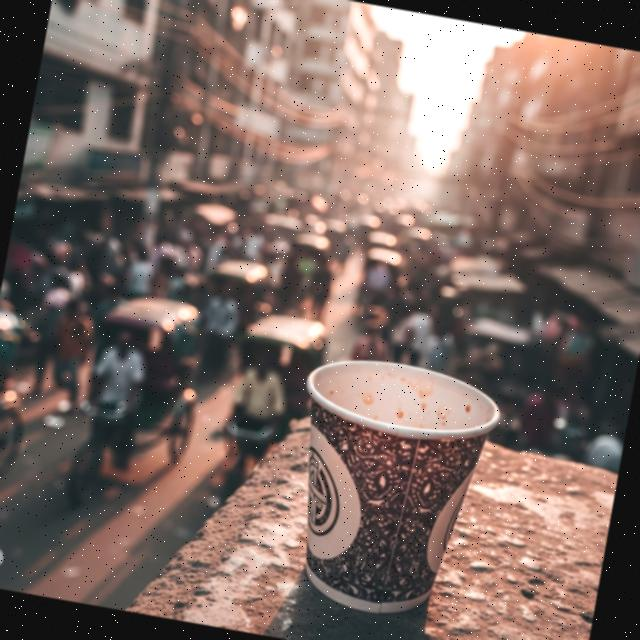paper: (266, 346, 508, 634)
